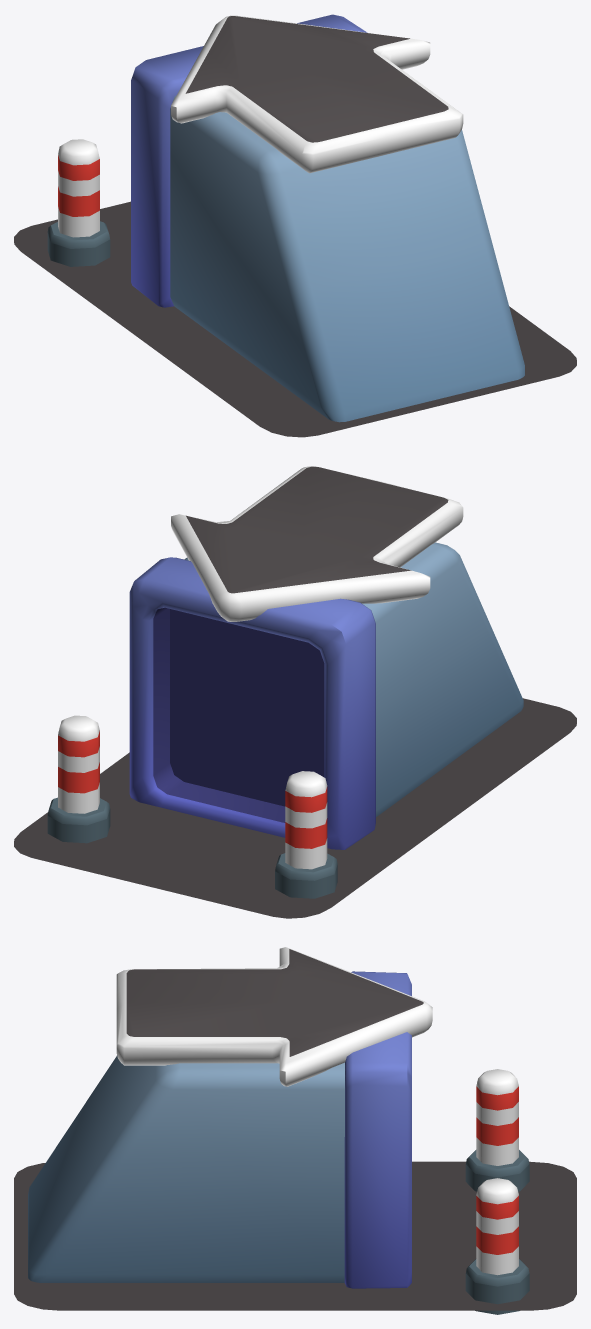
The model's file is CarTunnel.fbx.
The picture shows the model from 3 angles, top to bottom: view 1: azimuth 30°, elevation 25°; view 2: azimuth 150°, elevation 25°; view 3: azimuth 270°, elevation 25°; orthographic projection.
Parts seen in each view (by area): view 1: Tunnel, Tunnel_Arrow, Tunnel_ground; view 2: Tunnel, Tunnel_ground, Tunnel_Arrow; view 3: Tunnel, Tunnel_ground, Tunnel_Arrow.
Boxes of the visible parts, bbox=[...] form: Tunnel: bbox=[47, 14, 524, 422]; Tunnel_Arrow: bbox=[171, 15, 463, 173]; Tunnel_ground: bbox=[14, 201, 576, 437]; Tunnel: bbox=[47, 542, 523, 898]; Tunnel_ground: bbox=[14, 698, 576, 918]; Tunnel_Arrow: bbox=[171, 466, 463, 621]; Tunnel: bbox=[28, 971, 529, 1314]; Tunnel_ground: bbox=[14, 1161, 576, 1310]; Tunnel_Arrow: bbox=[116, 947, 432, 1086].
Bounding box in the file's own units: 288 × 223 × 460.
